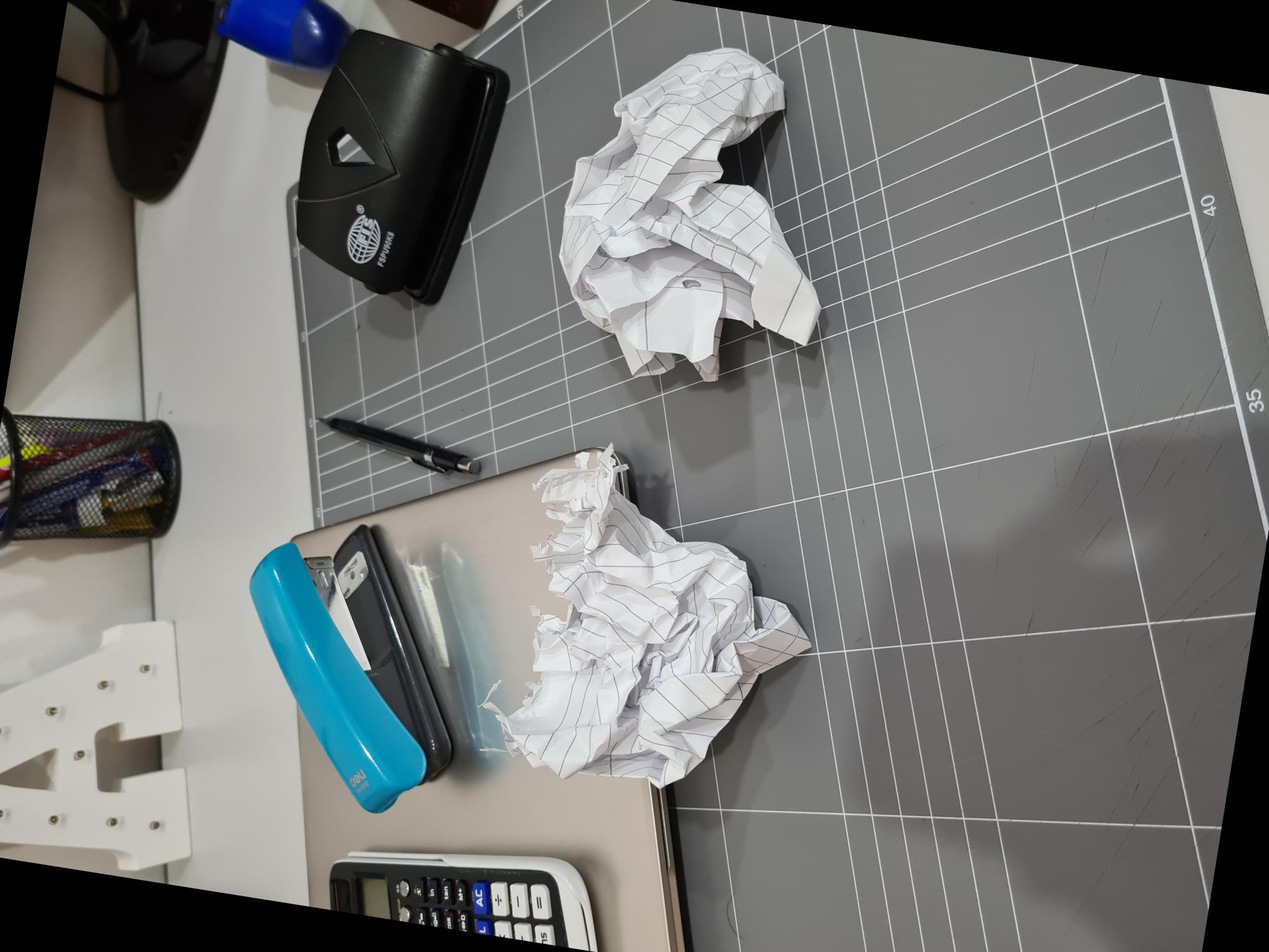Kertas: (142, 456, 480, 783), (549, 533, 880, 792)
